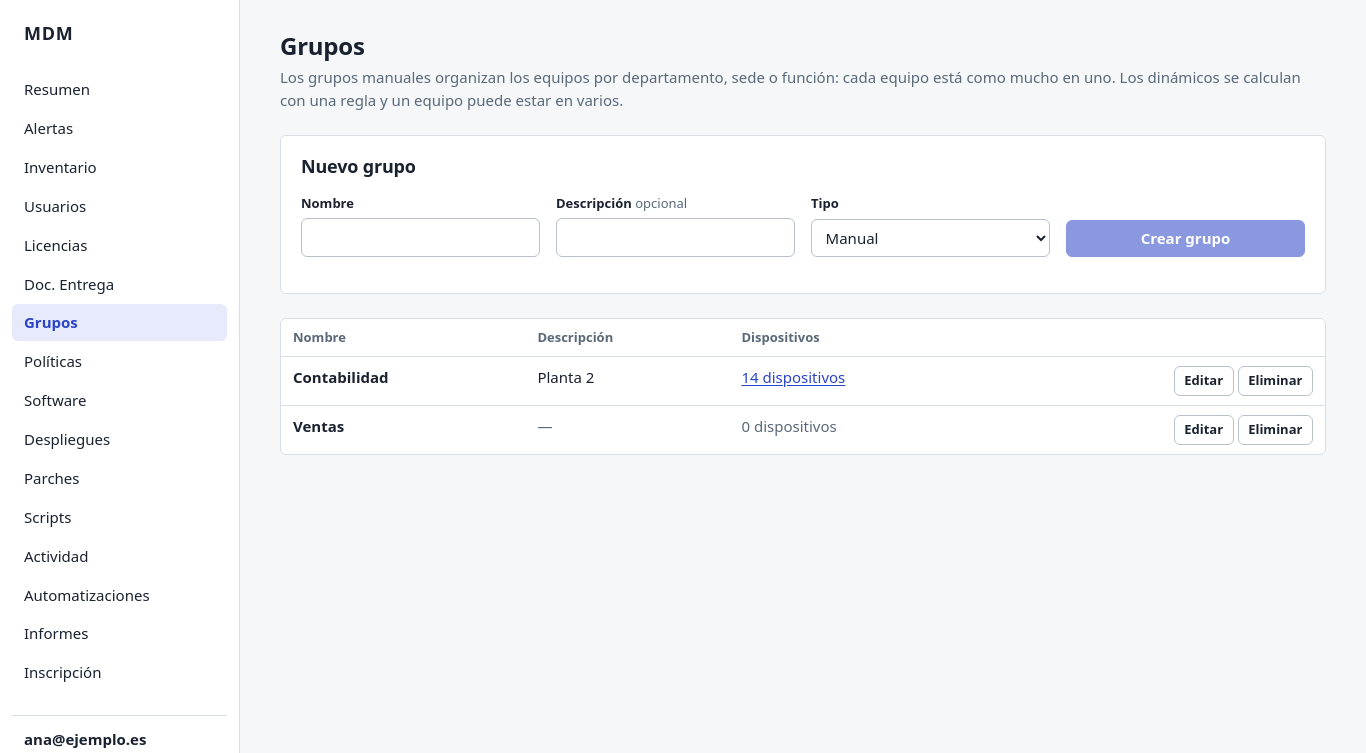
Grupos › crea un grupo y lo añade a la lista
The image size is (1366, 753).
Type "Dirección" into the field labelled "Nombre" at (420, 238), box [301,218,540,257]
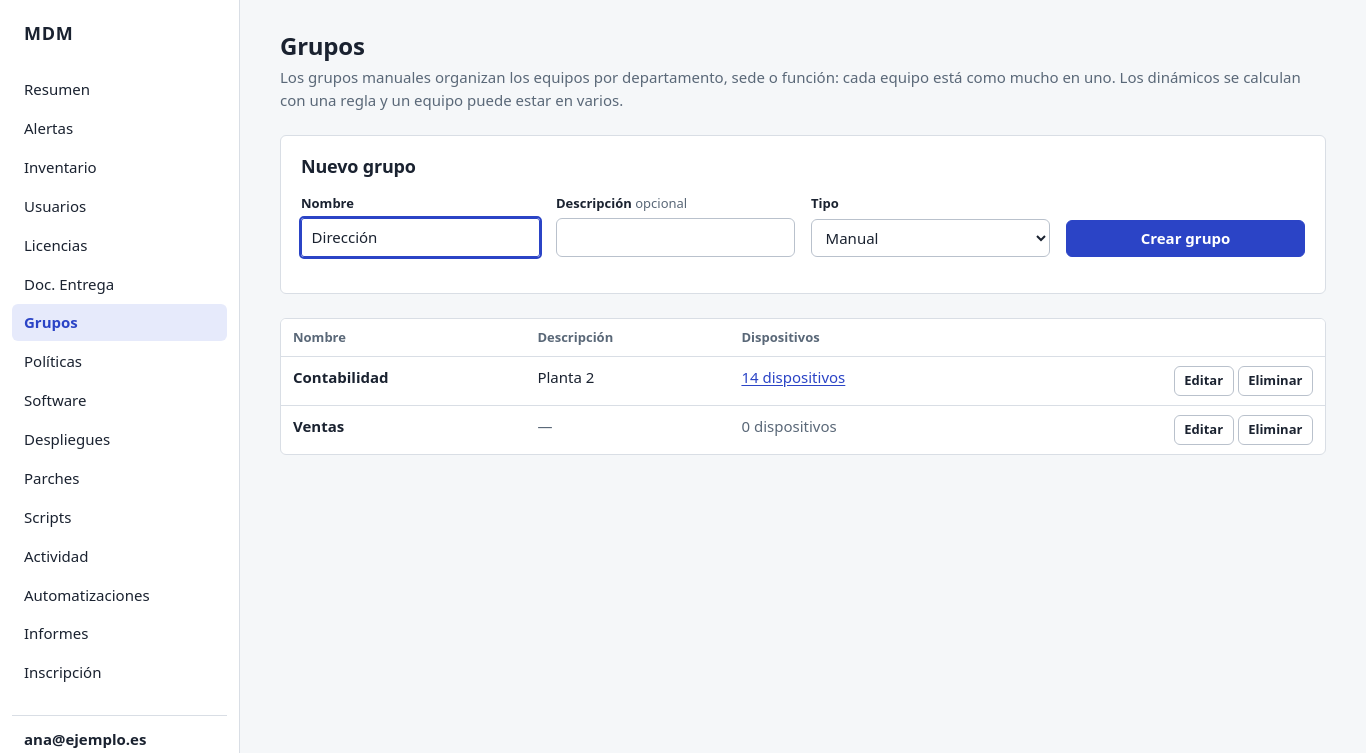
Click the button "Crear grupo" at (1186, 239), box [1066,220,1305,257]
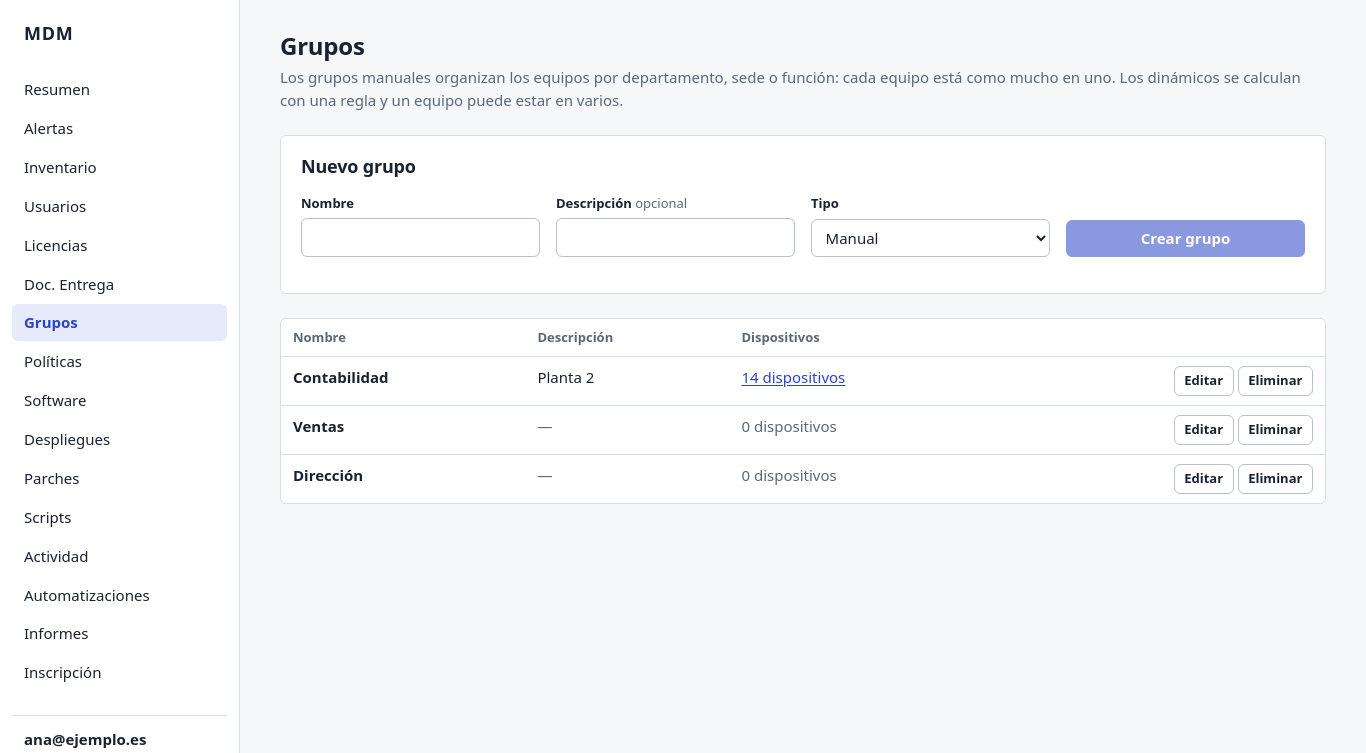
Expected: the text "Dirección" is shown, [293,465,363,485]
Expected: the field labelled "Nombre" is empty, [301,218,540,257]
